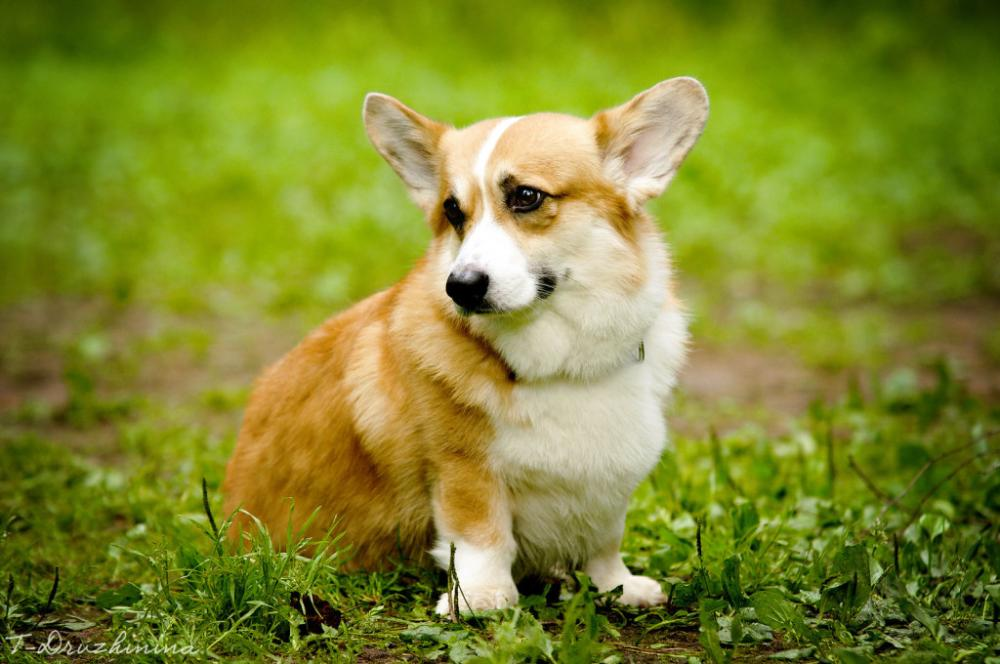corgi: (337, 78, 721, 625)
